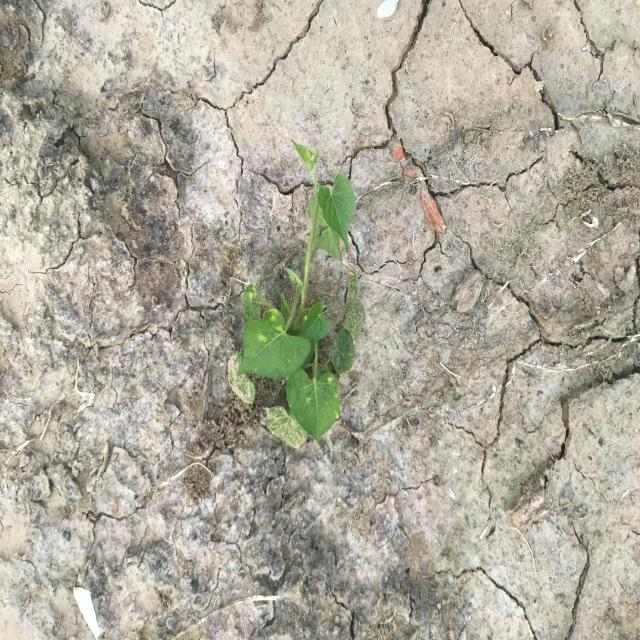MorningGlory: (227, 137, 366, 453)
